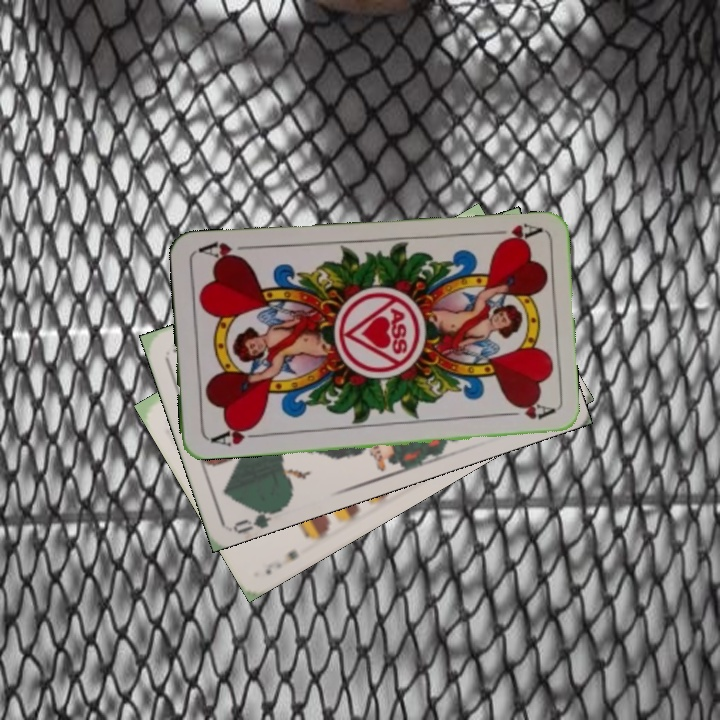E7: (260, 546, 301, 578)
GO: (230, 502, 287, 535)
HA: (484, 219, 543, 248), (206, 421, 264, 449)
